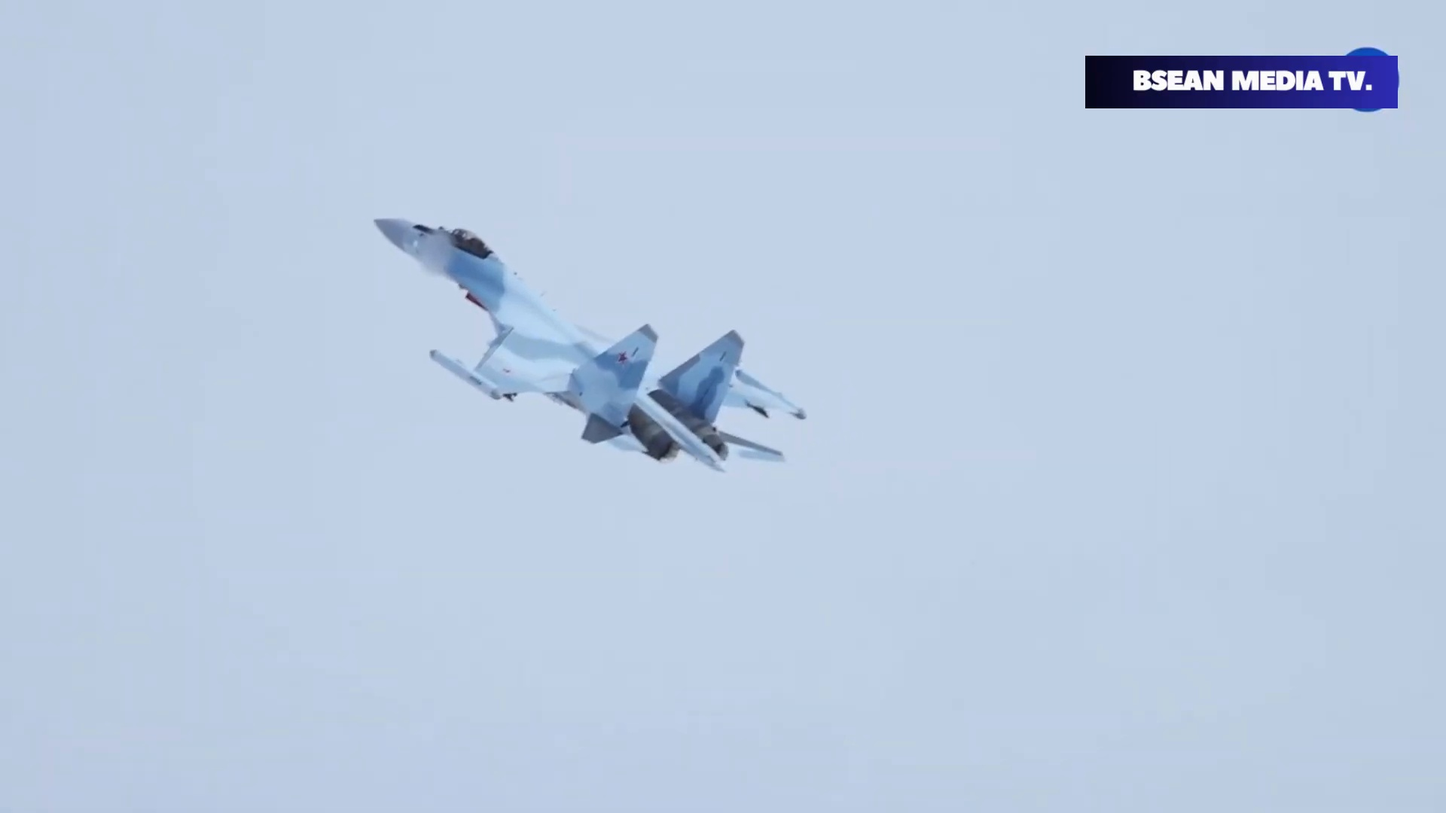Su35: (375, 213, 811, 478)
